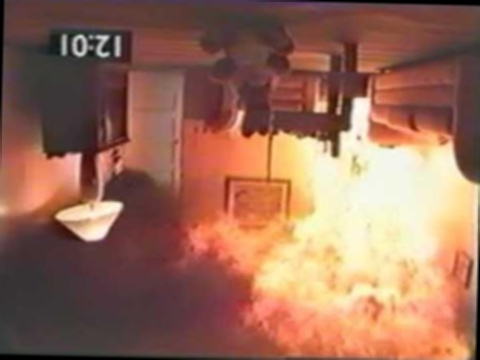fire: (269, 152, 477, 359)
smoke: (5, 232, 240, 353)
